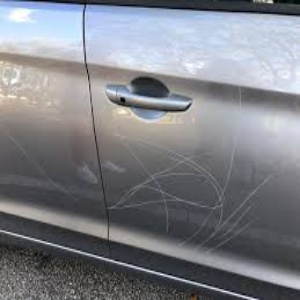door_scratch: (36, 132, 291, 247)
